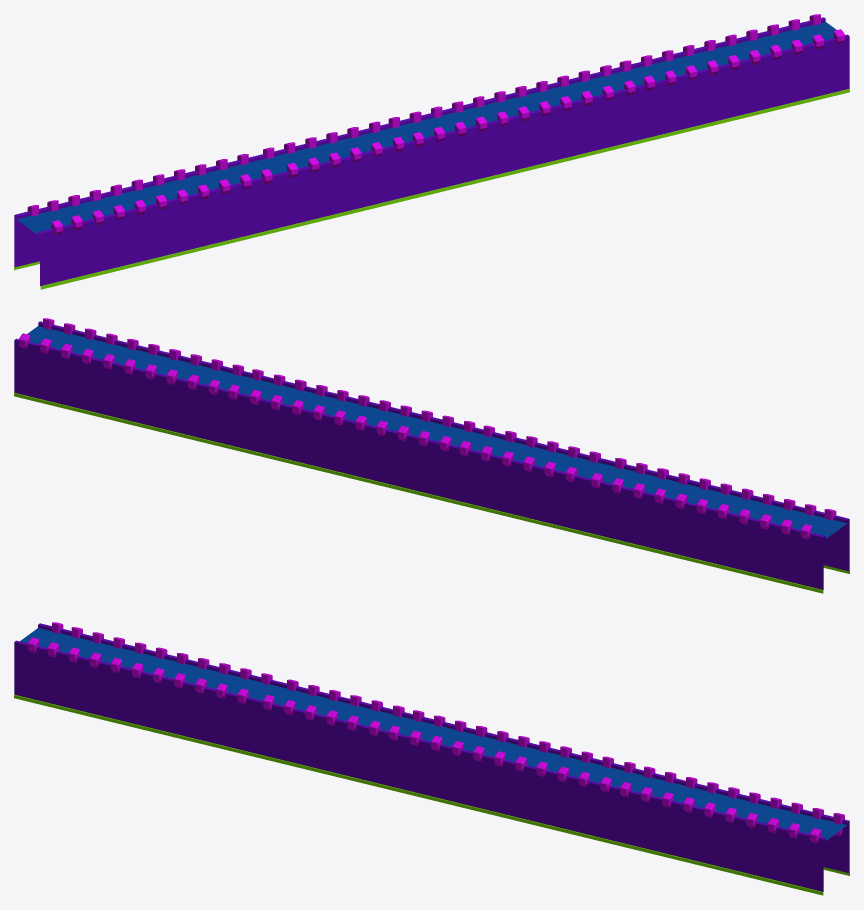
Rendered from Waal70.fbx.
3 renders of one model, top to bottom at view 1: azimuth 30°, elevation 25°; view 2: azimuth 150°, elevation 25°; view 3: azimuth 330°, elevation 25°, orthographic.
Parts seen in each view (by area): view 1: Wall70_LOD0; view 2: Wall70_LOD0; view 3: Wall70_LOD0.
Boxes of the visible parts, x1,y1,x2,y2 form: Wall70_LOD0: (14, 14, 849, 289); Wall70_LOD0: (14, 318, 849, 593); Wall70_LOD0: (14, 622, 849, 895).
Size of what is drawn, in the model's own units: 7002 by 515 by 427.
